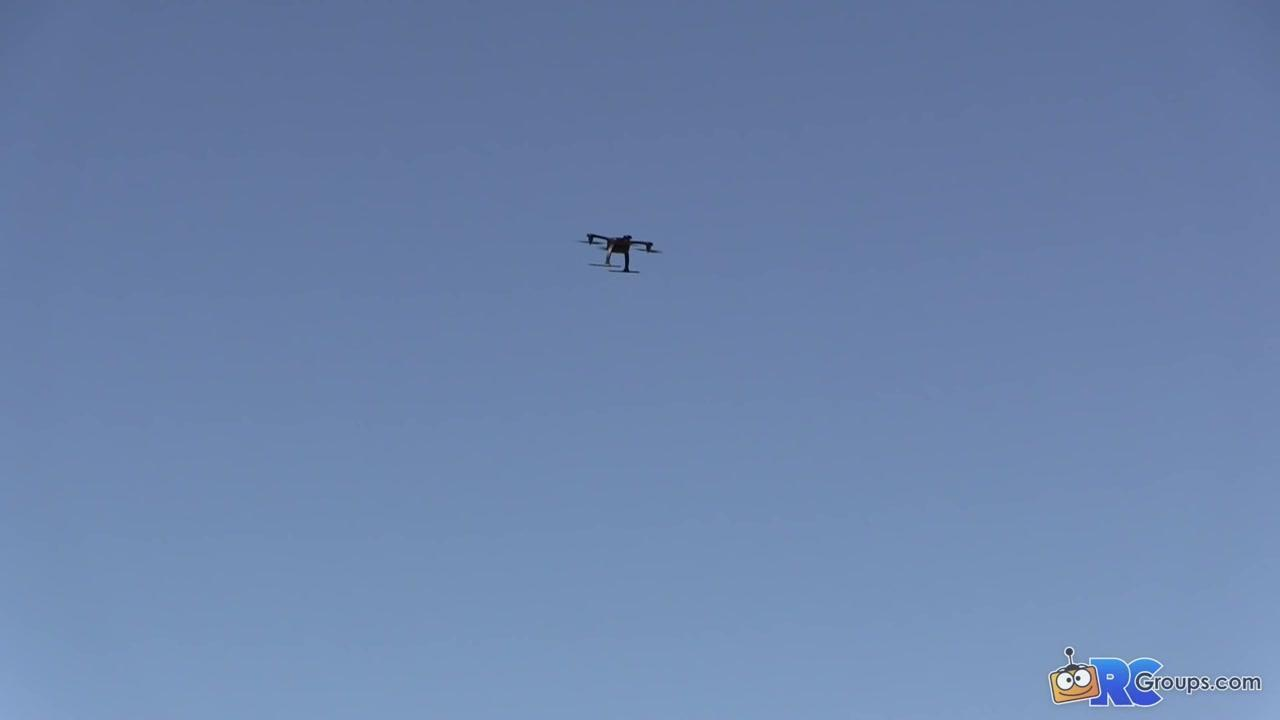UAV: (577, 234, 665, 274)
